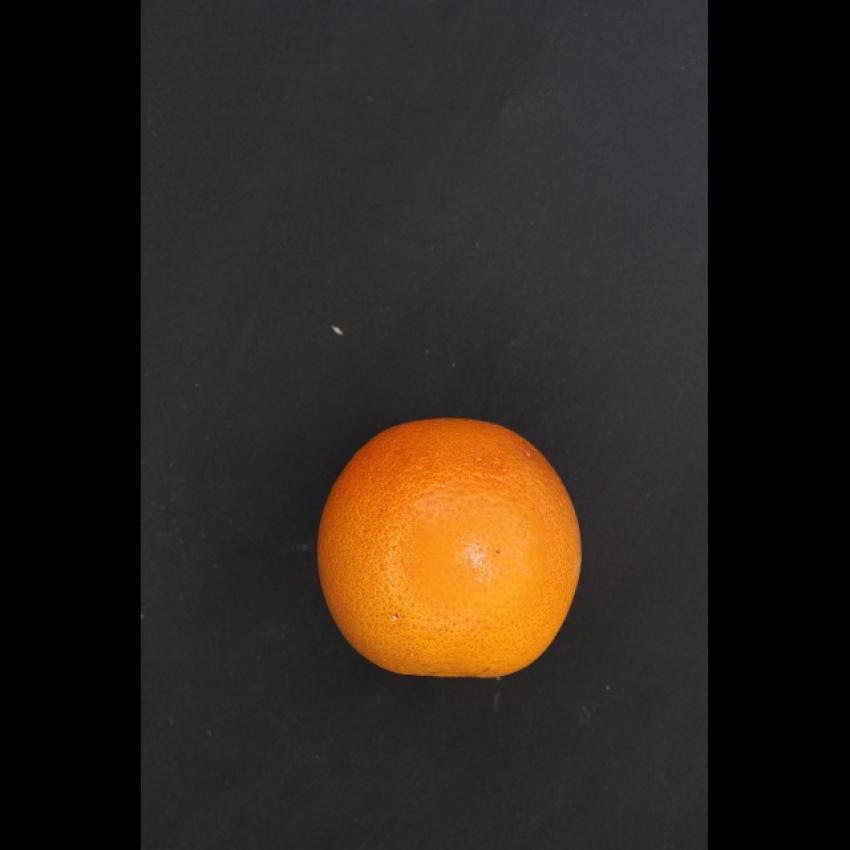Mal estado: (303, 408, 589, 686)
